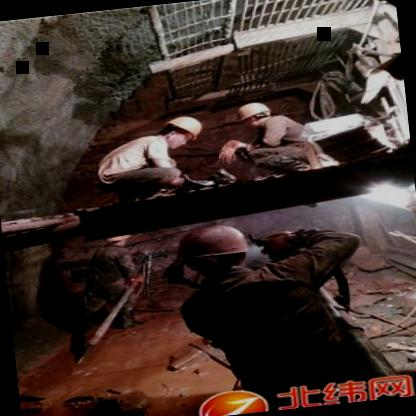helmet: (170, 221, 256, 280), (154, 112, 204, 150), (232, 98, 280, 130)
